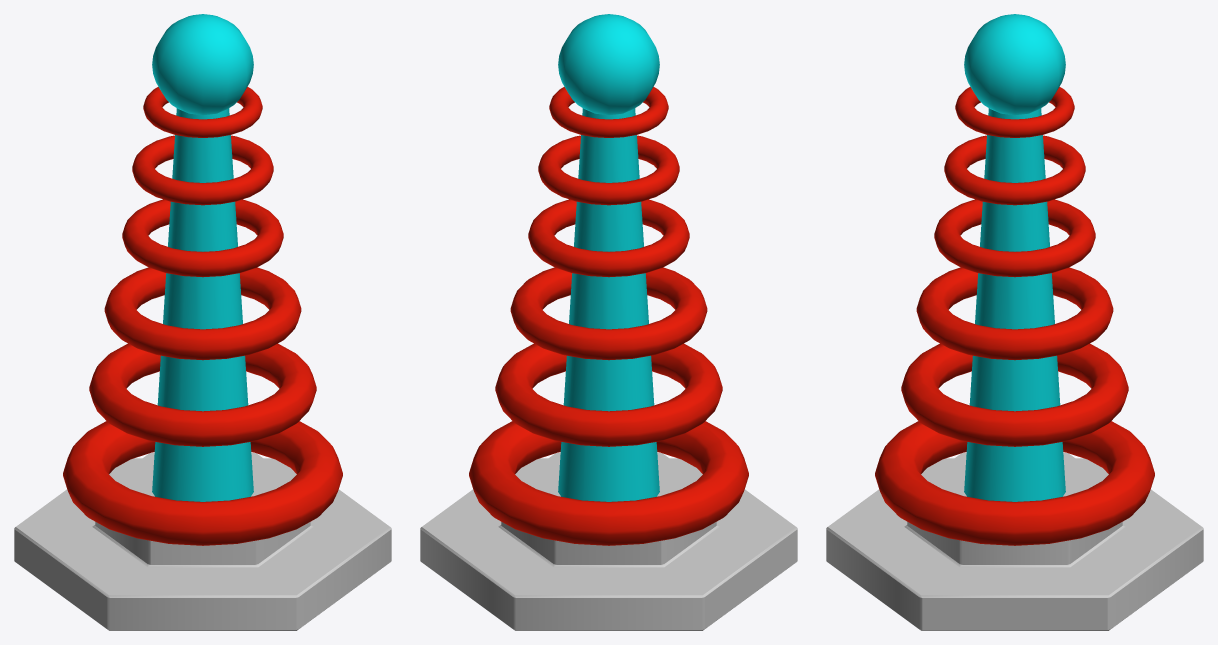
Rendered from ElectricFence.fbx.
3 renders of one model, left to right at view 1: azimuth 30°, elevation 25°; view 2: azimuth 150°, elevation 25°; view 3: azimuth 270°, elevation 25°, orthographic.
Visible parts, largest first — view 1: ElectricFence; view 2: ElectricFence; view 3: ElectricFence.
Boxes of the visible parts, bbox=[...] form: ElectricFence: bbox=[14, 14, 391, 630]; ElectricFence: bbox=[420, 14, 797, 630]; ElectricFence: bbox=[826, 14, 1203, 630].
Size of the model in its own units: 173 by 317 by 199.
